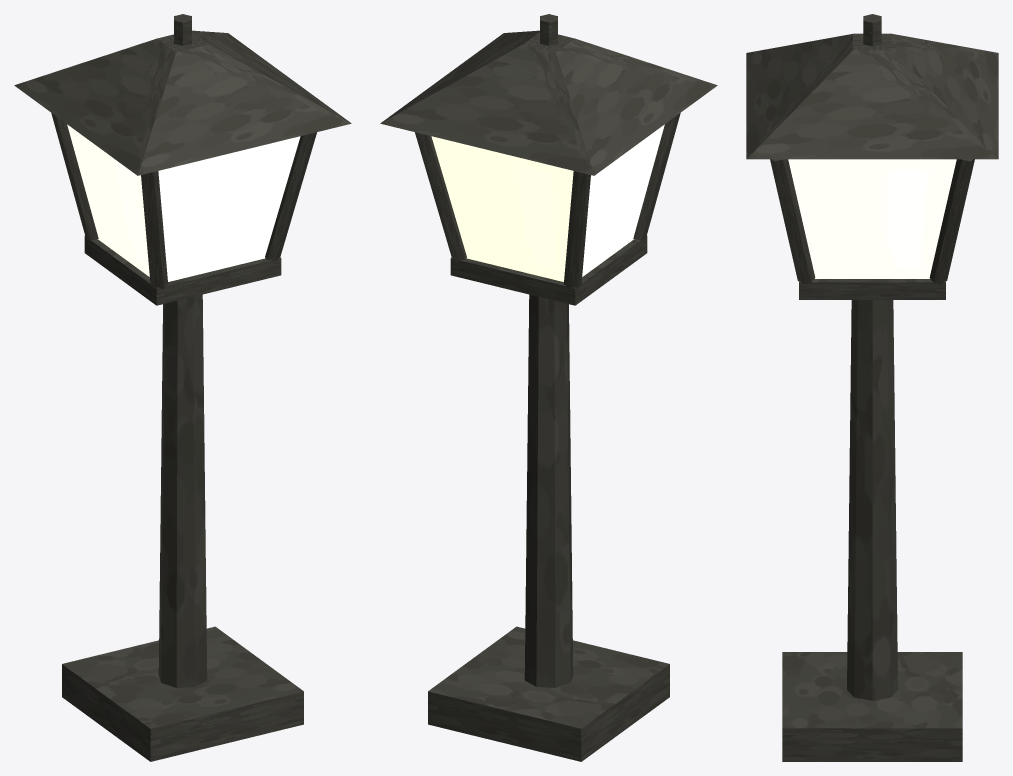
The model's file is lamp_stand.glb.
The picture shows the model from 3 angles, left to right: view 1: azimuth 30°, elevation 25°; view 2: azimuth 150°, elevation 25°; view 3: azimuth 270°, elevation 25°; orthographic projection.
Parts seen in each view (by area): view 1: outdoor_lamp_stand; view 2: outdoor_lamp_stand; view 3: outdoor_lamp_stand.
Part boxes in pixels (x1=…): outdoor_lamp_stand: x1=14, y1=14, x2=351, y2=761; outdoor_lamp_stand: x1=380, y1=14, x2=717, y2=761; outdoor_lamp_stand: x1=746, y1=14, x2=998, y2=761.
Size of the model in its own units: 0.34 by 1.05 by 0.34.
Materials: 2 (2 with a texture image).
